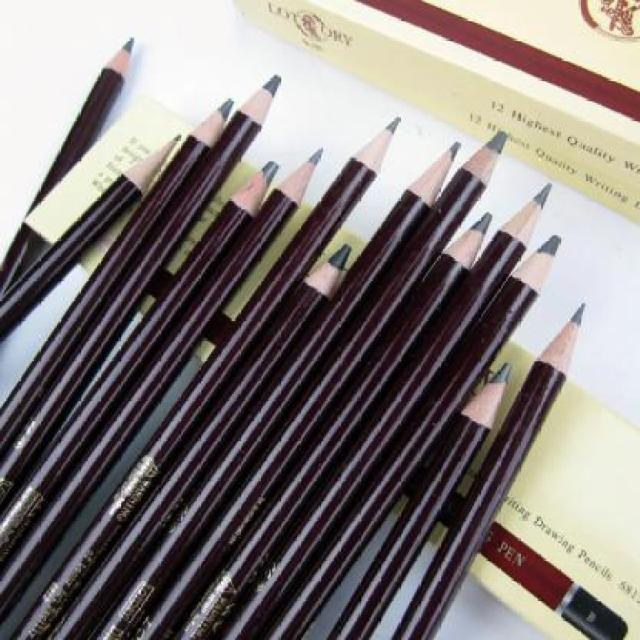pencil: (9, 113, 403, 639), (129, 126, 510, 640), (86, 139, 464, 639), (0, 145, 326, 626), (215, 181, 554, 639), (170, 211, 494, 639), (242, 231, 562, 640), (0, 72, 284, 517), (40, 239, 355, 639), (0, 157, 284, 569), (0, 94, 237, 458), (388, 301, 588, 640), (322, 360, 514, 639), (0, 129, 185, 343), (0, 34, 138, 294)
